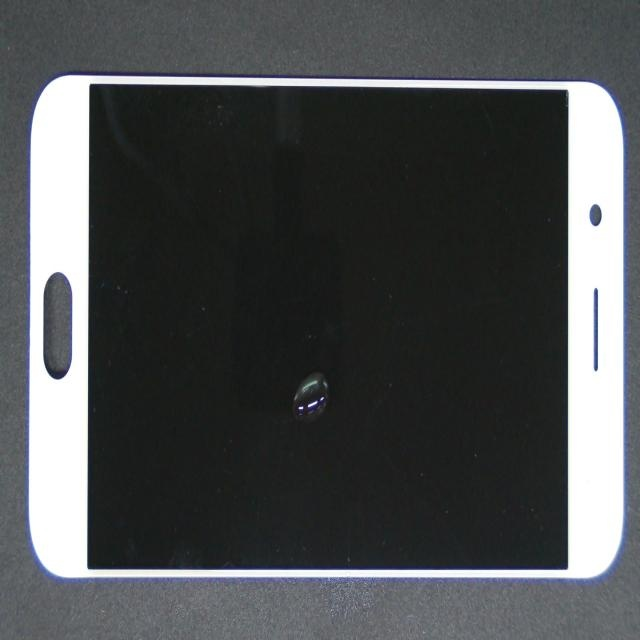oil: (177, 206, 498, 576)
